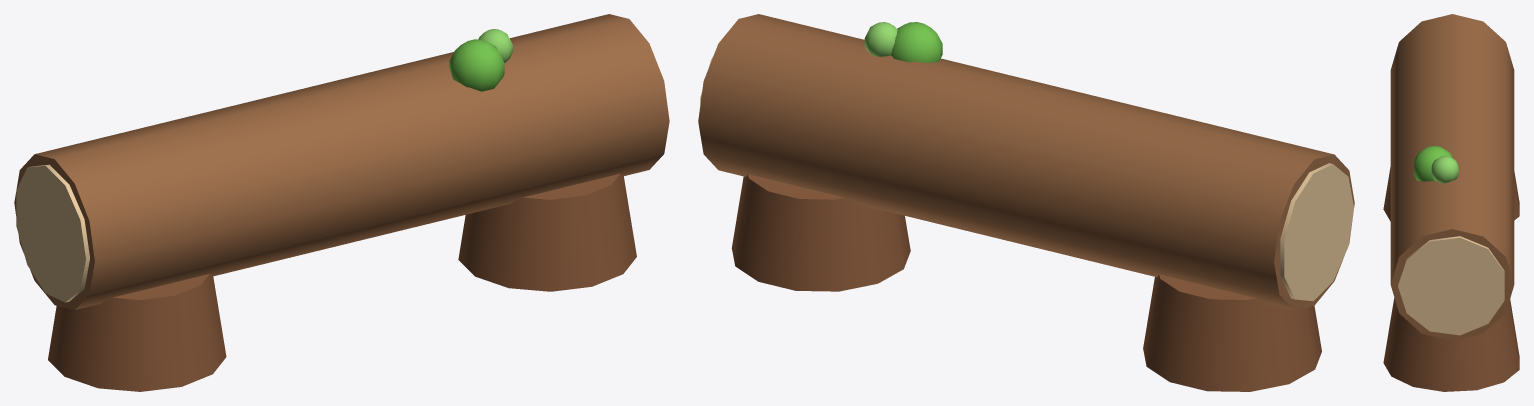
The model's file is bench-log.glb.
3 renders of one model, left to right at view 1: azimuth 30°, elevation 25°; view 2: azimuth 150°, elevation 25°; view 3: azimuth 270°, elevation 25°, orthographic. The views are drawn at different scales.
Bounding box in the file's own units: 1.42 × 0.56 × 0.3745.
